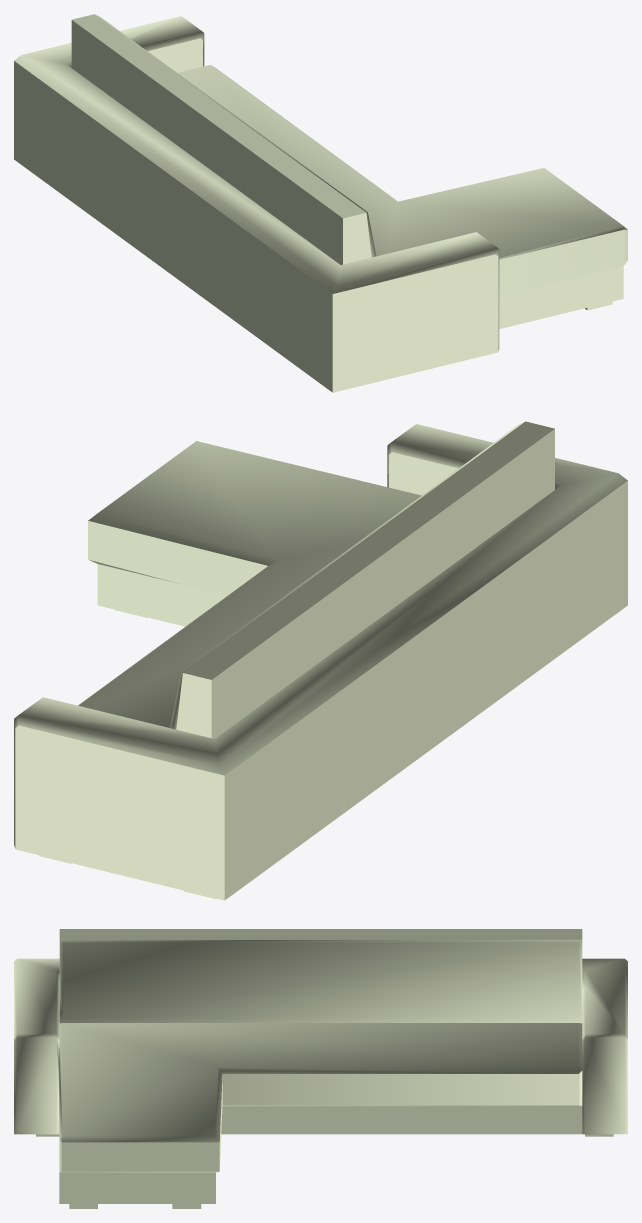
The model's file is hotl_couch.FBX.
3 views of the same model, one above another, from view 1: azimuth 30°, elevation 25°; view 2: azimuth 150°, elevation 25°; view 3: azimuth 270°, elevation 25° (orthographic). The views are drawn at different scales.
Visible parts, largest first — view 1: couch; view 2: couch; view 3: couch.
Boxes of the visible parts, bbox=[...] form: couch: bbox=[14, 14, 627, 392]; couch: bbox=[14, 421, 627, 900]; couch: bbox=[14, 929, 627, 1208].
Size of the model in its own units: 2.66 by 1.24 by 4.59.
